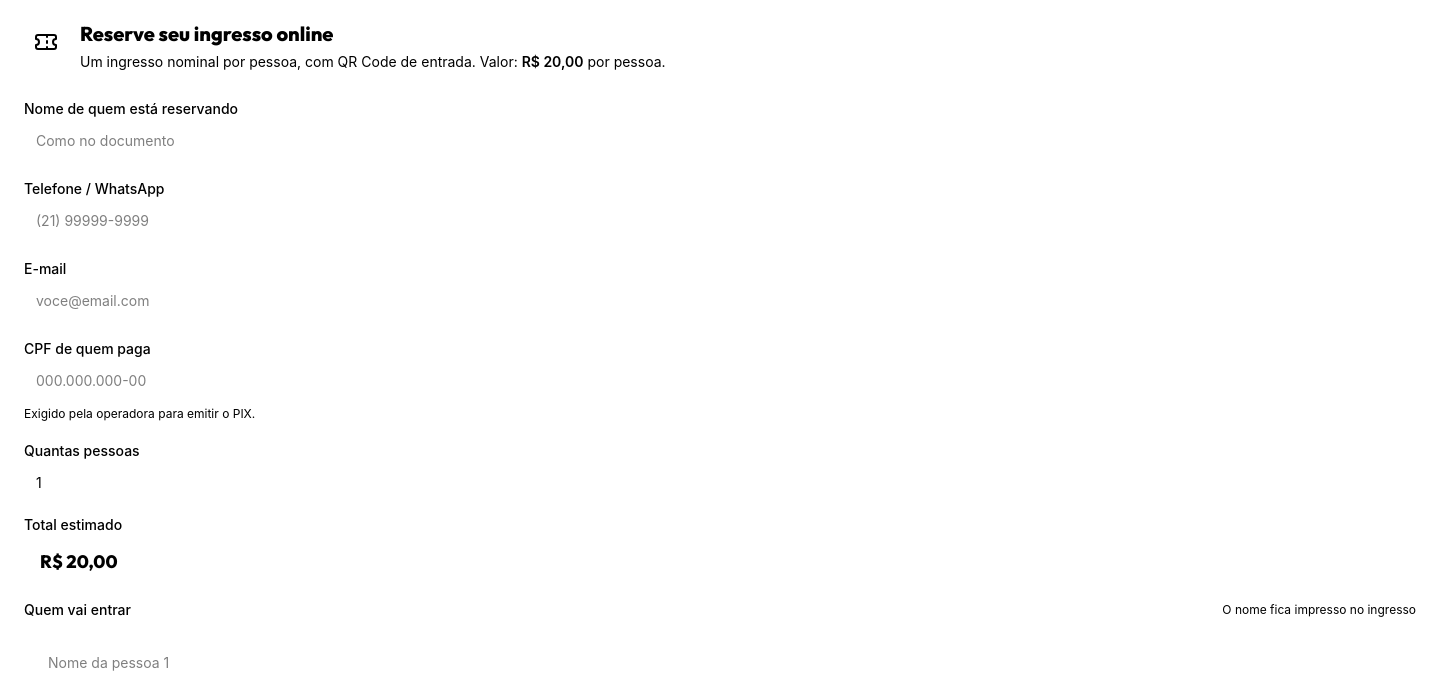
Test: EventTicketForm › não impõe teto de quantidade — a família pede quantos quiser
The width and height of the screenshot is (1440, 691).
Replace the text in the number field labelled "Quantas pessoas" with "9" at (720, 482), box 24,462 -> 1416,502
(page scrolled)
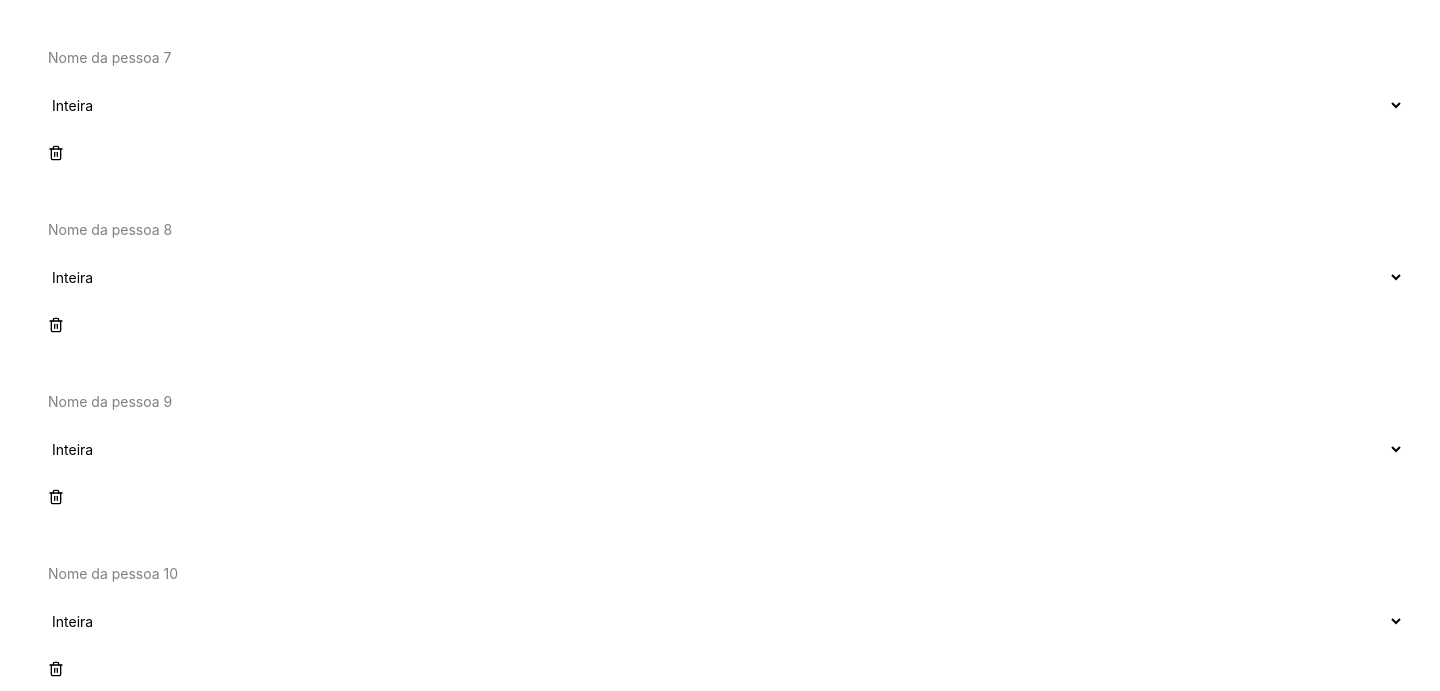
Check: the field labelled "Nome da pessoa 9" is shown, box 36,381 -> 1404,421
